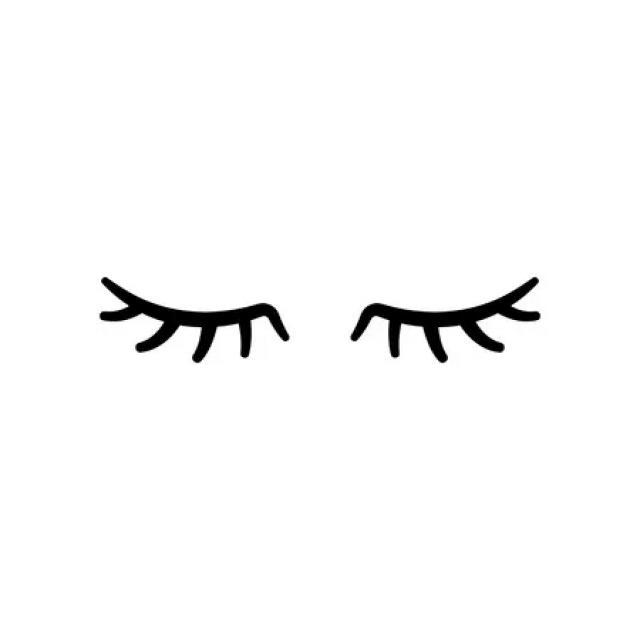real: (74, 247, 556, 385)
